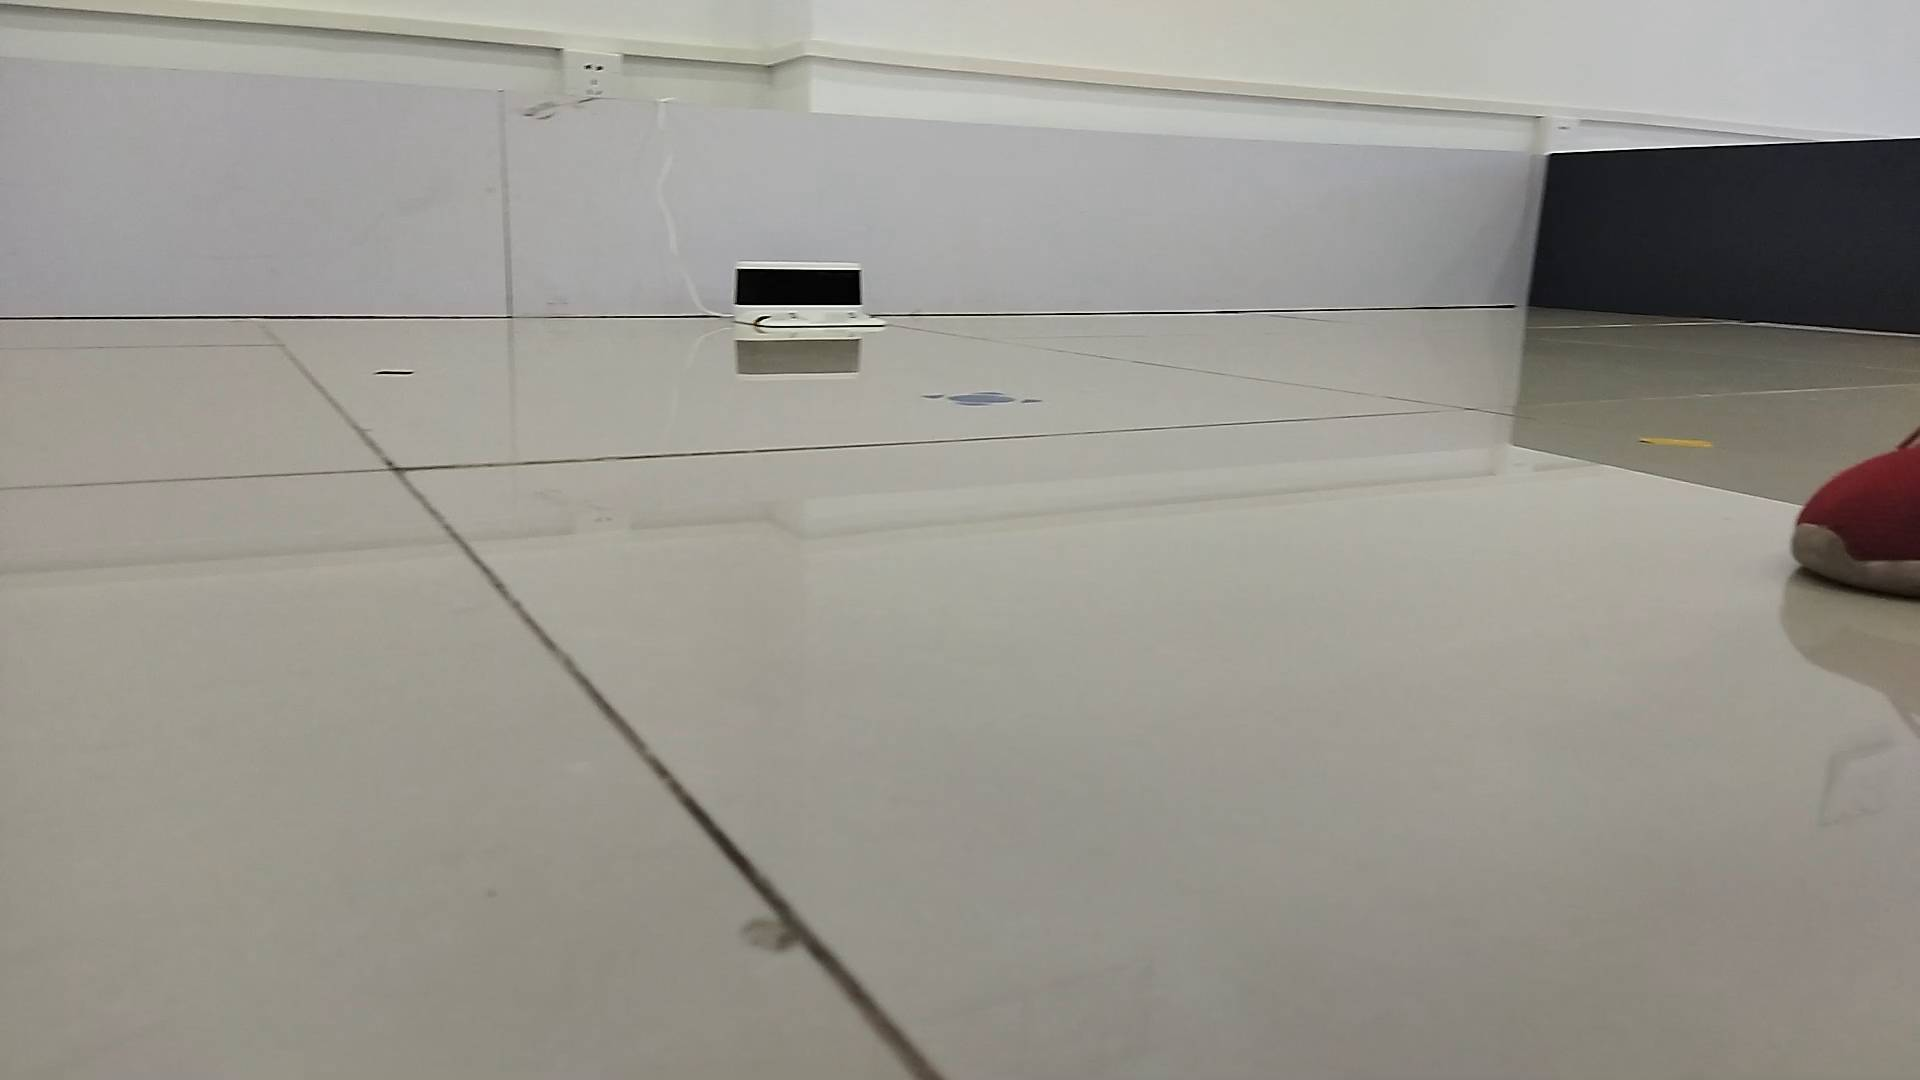recharge seat: (727, 258, 891, 328)
